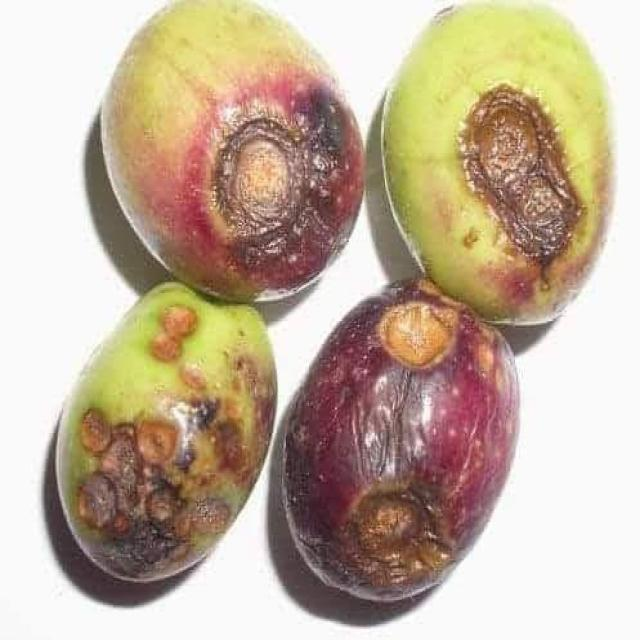Olive Fruit Fly: (103, 0, 362, 301), (283, 282, 518, 599), (381, 2, 612, 323), (55, 282, 277, 580)
